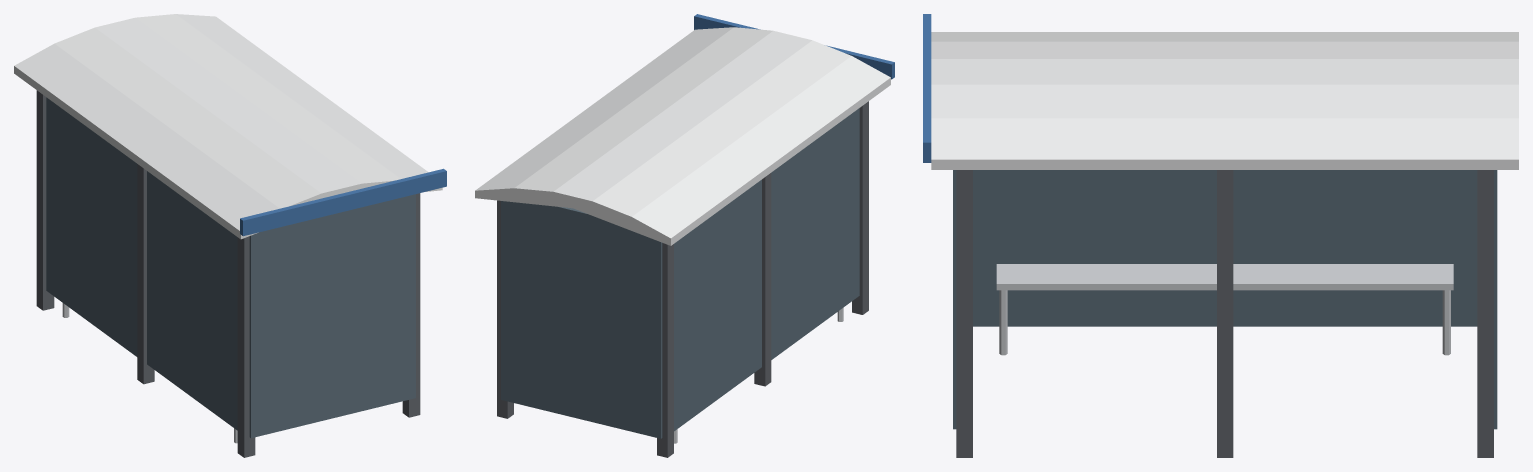
Rendered from platform-shelter.glb.
3 renders of one model, left to right at view 1: azimuth 30°, elevation 25°; view 2: azimuth 150°, elevation 25°; view 3: azimuth 270°, elevation 25°, orthographic. The views are drawn at different scales.
Visible parts, largest first — view 1: platform-shelter; view 2: platform-shelter; view 3: platform-shelter.
Boxes of the visible parts, x1,y1,x2,y2 form: platform-shelter: (14,14,446,457); platform-shelter: (475,14,894,457); platform-shelter: (923,14,1518,457).
Bounding box in the file's own units: 2.2 × 2.63 × 4.3.
